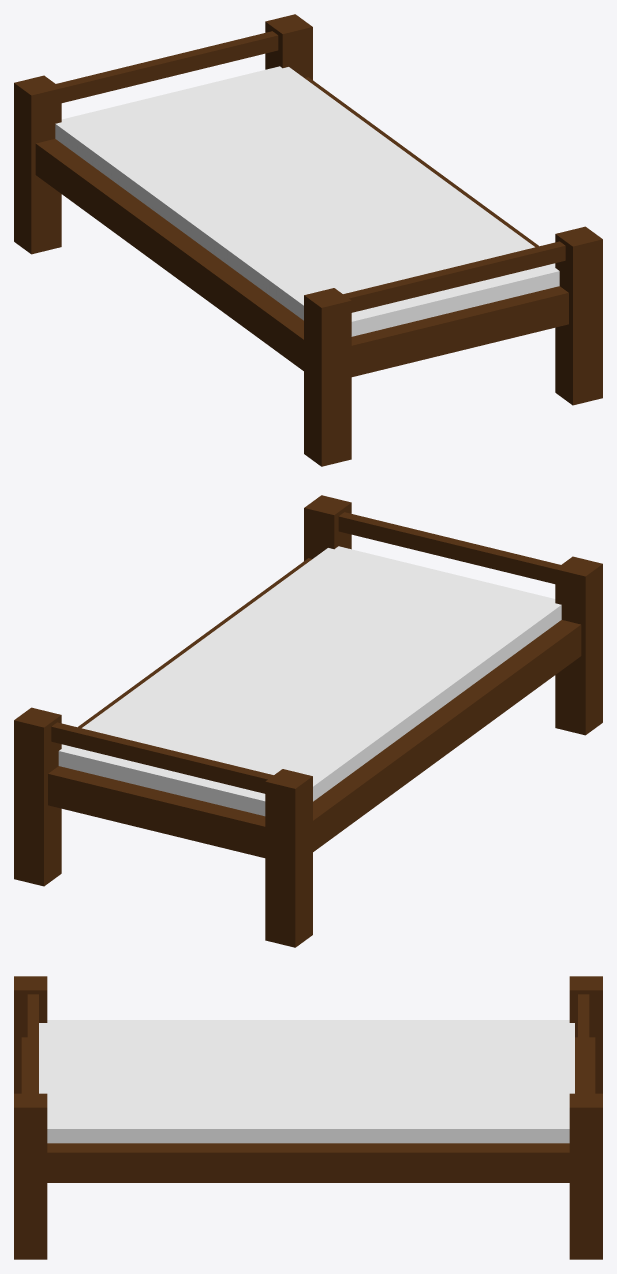
Rendered from MBS_City_Bed.fbx.
3 views of the same model, one above another, from view 1: azimuth 30°, elevation 25°; view 2: azimuth 150°, elevation 25°; view 3: azimuth 270°, elevation 25° (orthographic). The views are drawn at different scales.
Parts seen in each view (by area): view 1: Cube.400; view 2: Cube.400; view 3: Cube.400.
Part boxes in pixels (left/top/right/bottom): Cube.400: left=14, top=14, right=602, bottom=466; Cube.400: left=14, top=495, right=602, bottom=947; Cube.400: left=14, top=976, right=602, bottom=1259.
Size of the model in its own units: 224 by 121 by 424.
